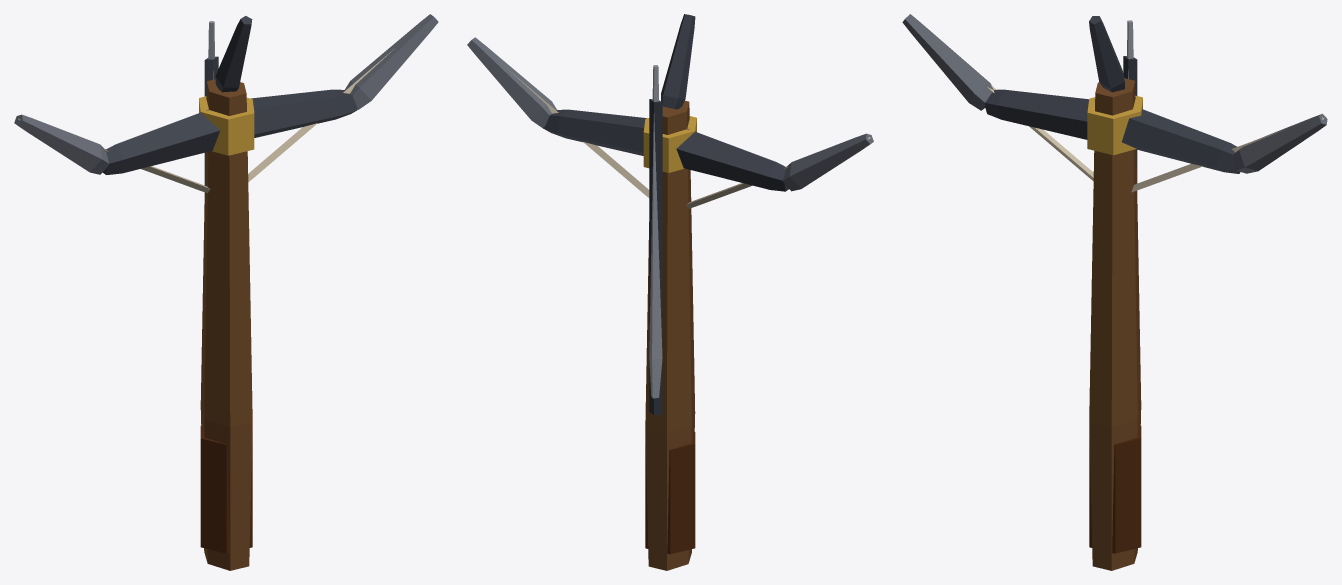
File: wpn_crossbow_1.glb
3 renders of one model, left to right at view 1: azimuth 30°, elevation 25°; view 2: azimuth 150°, elevation 25°; view 3: azimuth 330°, elevation 25°, orthographic. The views are drawn at different scales.
Parts seen in each view (by area): view 1: wpn_crossbow_1; view 2: wpn_crossbow_1; view 3: wpn_crossbow_1.
Part boxes in pixels (bbox=[...]): wpn_crossbow_1: bbox=[14, 14, 438, 570]; wpn_crossbow_1: bbox=[467, 14, 873, 570]; wpn_crossbow_1: bbox=[902, 14, 1327, 570].
Size of the model in its own units: 0.4868 by 0.6125 by 0.0836.
